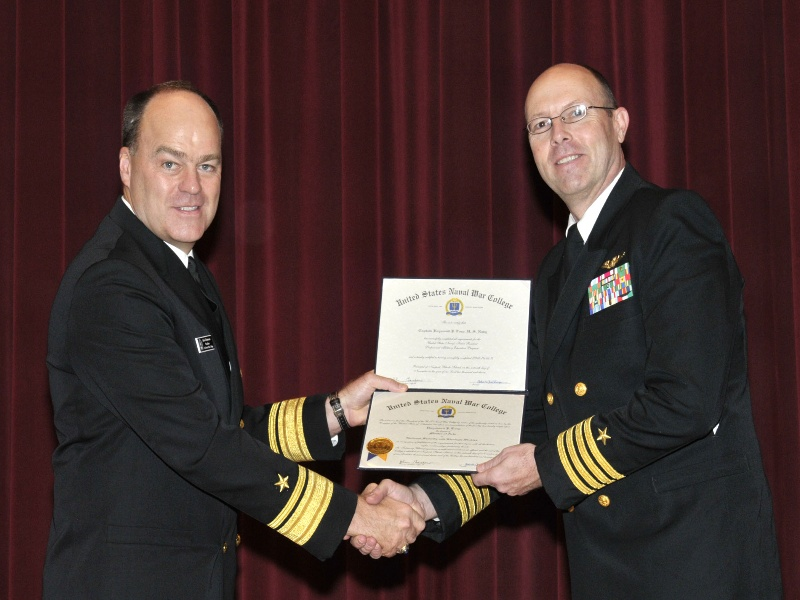face: (123, 97, 232, 243), (518, 66, 633, 195)
